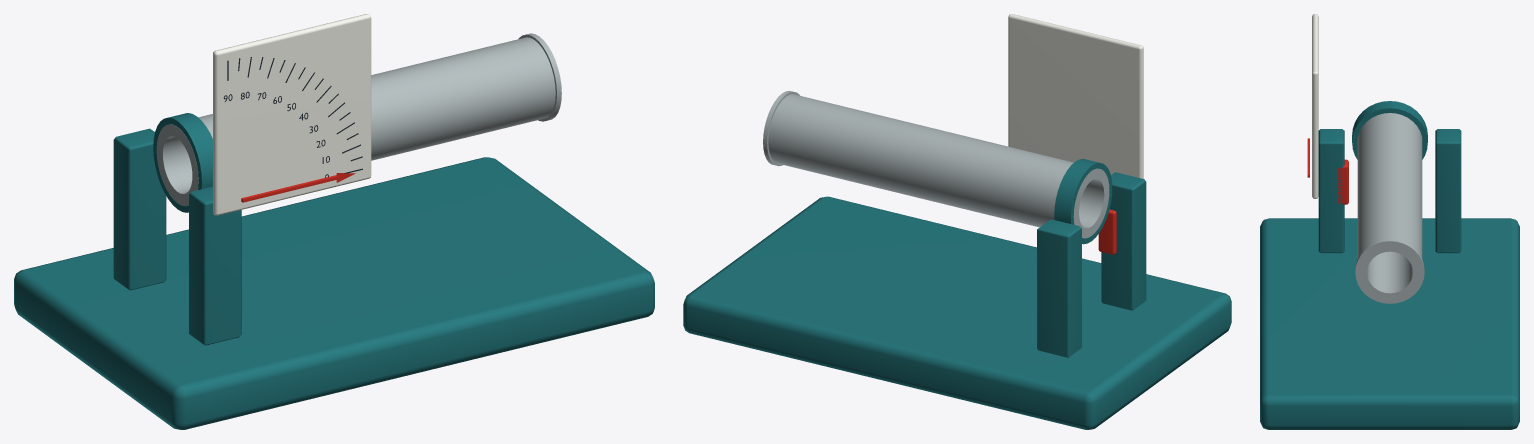
The model's file is VLAB_launcher.fbx.
3 renders of one model, left to right at view 1: azimuth 30°, elevation 25°; view 2: azimuth 150°, elevation 25°; view 3: azimuth 270°, elevation 25°, orthographic. The views are drawn at different scales.
Visible parts, largest first — view 1: VLAB_launcher_Base_VIS, VLAB_launcher_AnglePlate_VIS, VLAB_launcher_Barrel_VIS, VLAB_launcher_LoadSocket_VIS; view 2: VLAB_launcher_Base_VIS, VLAB_launcher_Barrel_VIS, VLAB_launcher_AnglePlate_VIS, VLAB_launcher_LoadSocket_VIS, VLAB_launcher_Trigger_VIS; view 3: VLAB_launcher_Base_VIS, VLAB_launcher_Barrel_VIS, VLAB_launcher_LoadSocket_VIS, VLAB_launcher_AnglePlate_VIS, VLAB_launcher_Trigger_VIS.
Part boxes in pixels (box(x1,y1,x2,y2)): VLAB_launcher_Base_VIS: box(14, 128, 654, 429); VLAB_launcher_AnglePlate_VIS: box(213, 14, 371, 215); VLAB_launcher_Barrel_VIS: box(156, 33, 561, 205); VLAB_launcher_LoadSocket_VIS: box(153, 113, 212, 212); VLAB_launcher_Base_VIS: box(683, 172, 1231, 429); VLAB_launcher_Barrel_VIS: box(763, 90, 1109, 238); VLAB_launcher_AnglePlate_VIS: box(1008, 14, 1143, 178); VLAB_launcher_LoadSocket_VIS: box(1054, 159, 1112, 244); VLAB_launcher_Trigger_VIS: box(1098, 209, 1116, 254); VLAB_launcher_Base_VIS: box(1260, 129, 1519, 429); VLAB_launcher_Barrel_VIS: box(1307, 113, 1424, 303); VLAB_launcher_LoadSocket_VIS: box(1352, 101, 1427, 159); VLAB_launcher_AnglePlate_VIS: box(1312, 14, 1318, 198); VLAB_launcher_Trigger_VIS: box(1338, 159, 1348, 204).
Size of the model in its own units: 0.2 by 0.135 by 0.12.
